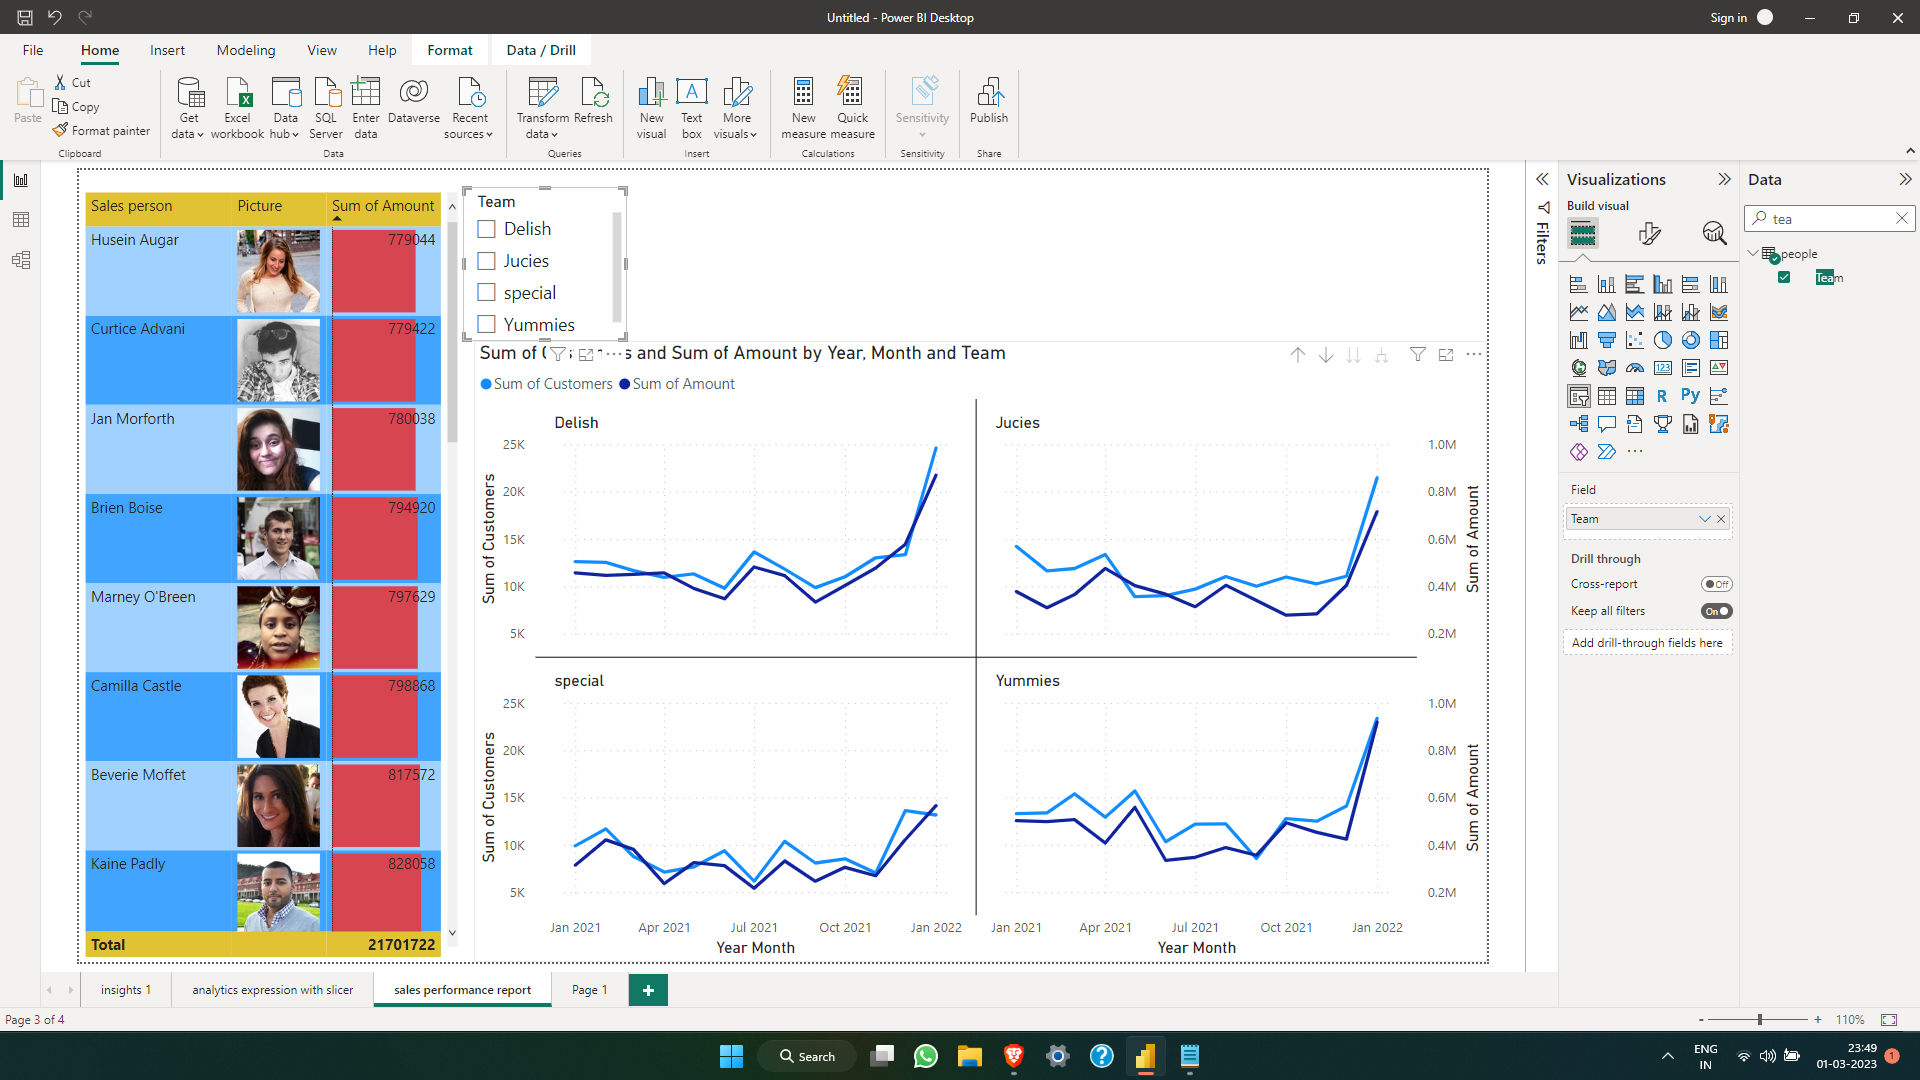

The page's visual inventory and layout, read from the dashboard file:
{"tool":"powerbi","page":{"name":"sales performance report","canvas":[1280,720],"ordinal":2},"visuals":[{"type":"tableEx","fields":{"Values":["people.Sales person","people.Picture","Sum(sales.Amount)"]},"box":[0,15.5,349.1,704.5],"z":0},{"type":"slicer","fields":{"Values":["people.Team"]},"box":[349.1,15.5,149.1,140],"z":1000},{"type":"lineChart","fields":{"Category":["sales.Date.Variation.Date Hierarchy.Year","sales.Date.Variation.Date Hierarchy.Month"],"Y":["Sum(sales.Customers)"],"Y2":["Sum(sales.Amount)"],"Rows":["people.Team"]},"box":[359.1,155.5,920.9,564.5],"z":1001},{"type":"image","box":[498,5,782,150],"z":1002}]}

Visuals, with their boxes on the page's 1280x720 design canvas (x1, y1, x2, y2). These are canvas units, not pixel positions in the 1920x1080 screenshot, which may show the page scaled, cropped or inside an application window:
tableEx - people.Sales person x people.Picture: pyautogui.locateOnScreen(0, 16, 349, 720)
slicer - people.Team: pyautogui.locateOnScreen(349, 16, 498, 156)
lineChart - sales.Date.Variation.Date Hierarchy.Year x sales.Date.Variation.Date Hierarchy.Month: pyautogui.locateOnScreen(359, 156, 1280, 720)
image: pyautogui.locateOnScreen(498, 5, 1280, 155)
